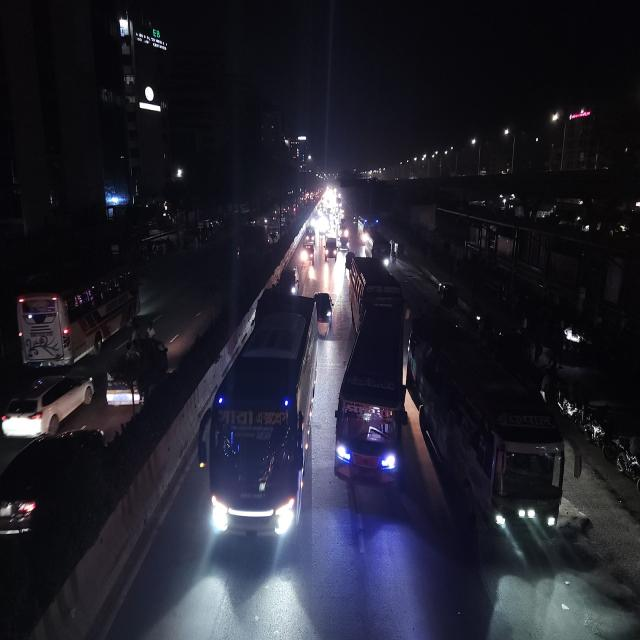bus: (420, 326, 570, 540), (208, 301, 318, 558), (338, 248, 414, 495), (13, 260, 141, 365), (372, 236, 392, 266), (358, 216, 379, 239)
car: (0, 419, 106, 550), (1, 369, 96, 437), (314, 288, 334, 340), (279, 265, 299, 296), (323, 232, 338, 262), (339, 236, 350, 254)
cng: (436, 280, 460, 312)
pickup_van: (301, 243, 316, 264)
